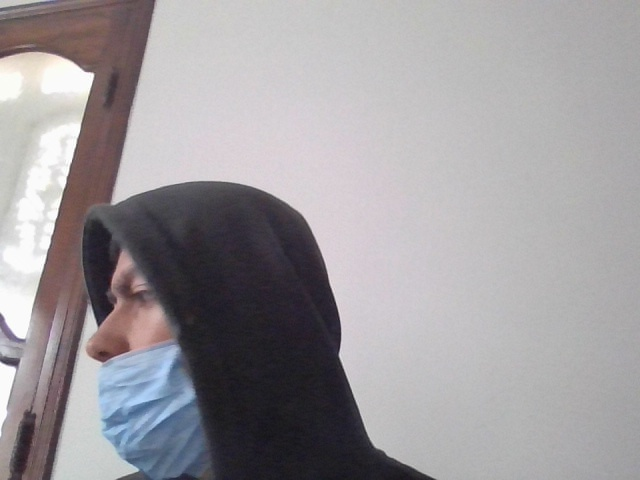mask_weared_incorrect: (83, 207, 229, 480)
